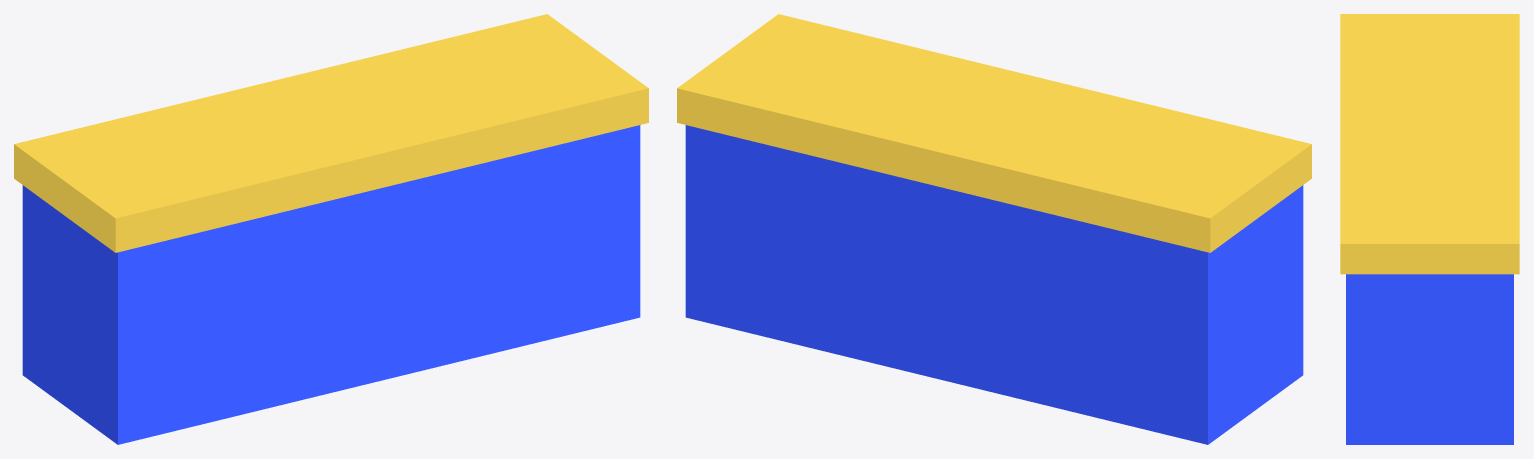
Rendered from jump-barrier.glb.
3 renders of one model, left to right at view 1: azimuth 30°, elevation 25°; view 2: azimuth 150°, elevation 25°; view 3: azimuth 270°, elevation 25°, orthographic. The views are drawn at different scales.
Parts seen in each view (by area): view 1: bridges jump-barrier; view 2: bridges jump-barrier; view 3: bridges jump-barrier.
Boxes of the visible parts, x1,y1,x2,y2 form: bridges jump-barrier: (14, 14, 648, 444); bridges jump-barrier: (677, 14, 1311, 444); bridges jump-barrier: (1340, 14, 1519, 444).
Bounding box in the file's own units: 1.94 × 0.8 × 0.64.
